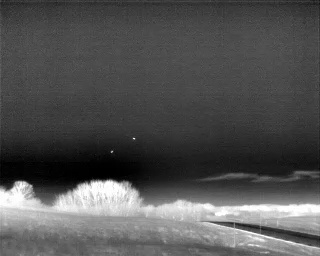BIRD: (131, 135, 137, 142)
